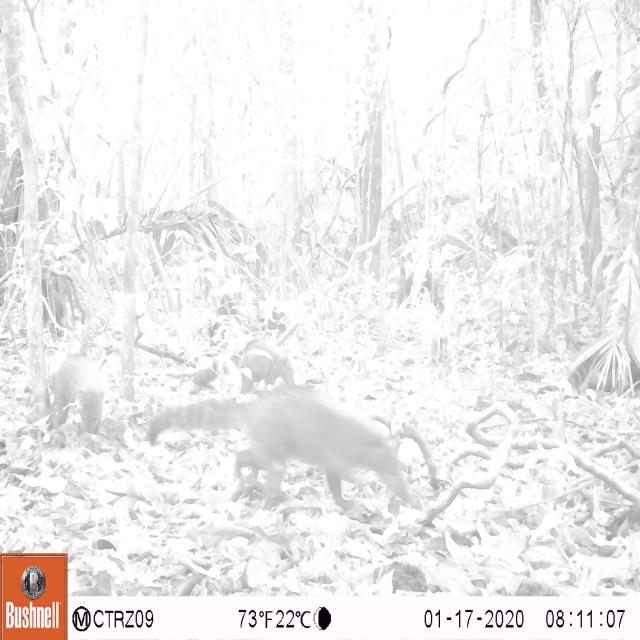South American Coati: (145, 389, 426, 523), (35, 340, 120, 448), (183, 337, 297, 392)
